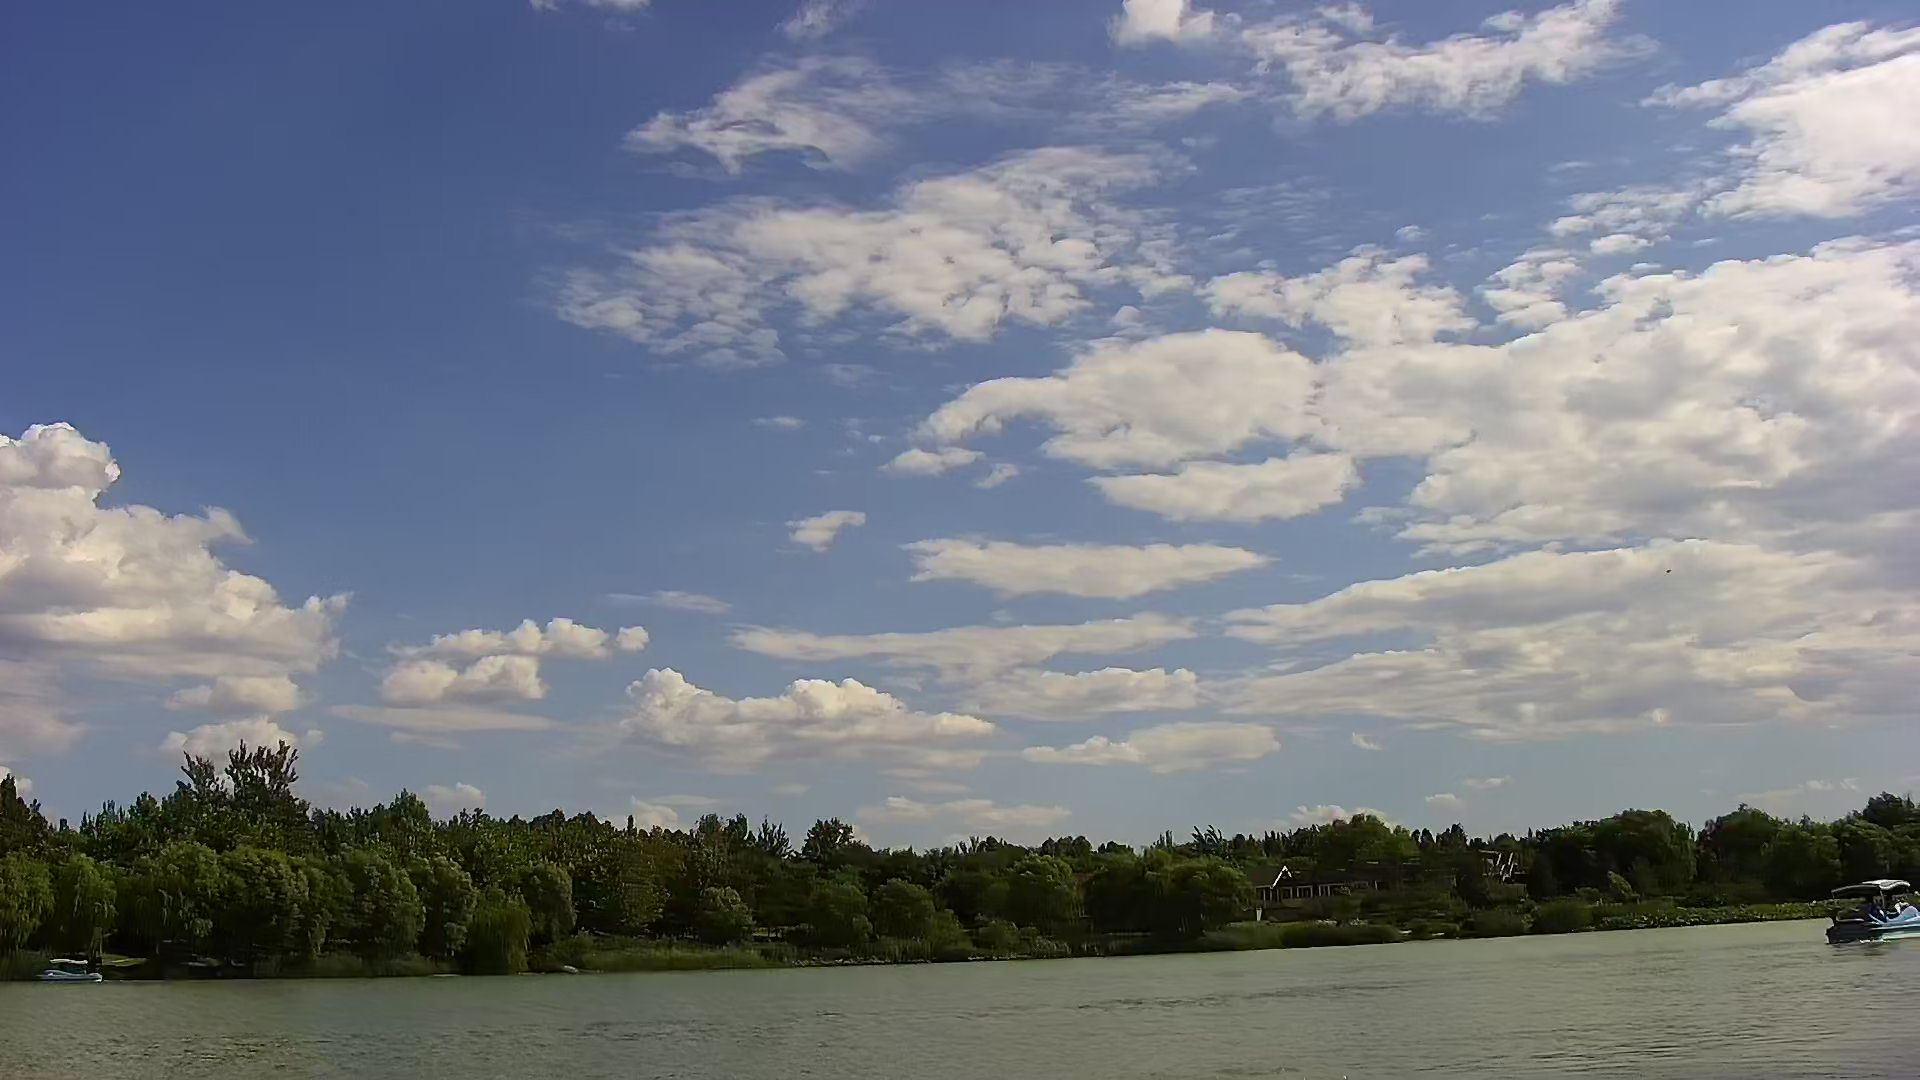boat: (1820, 880, 1920, 944), (32, 953, 107, 988)
